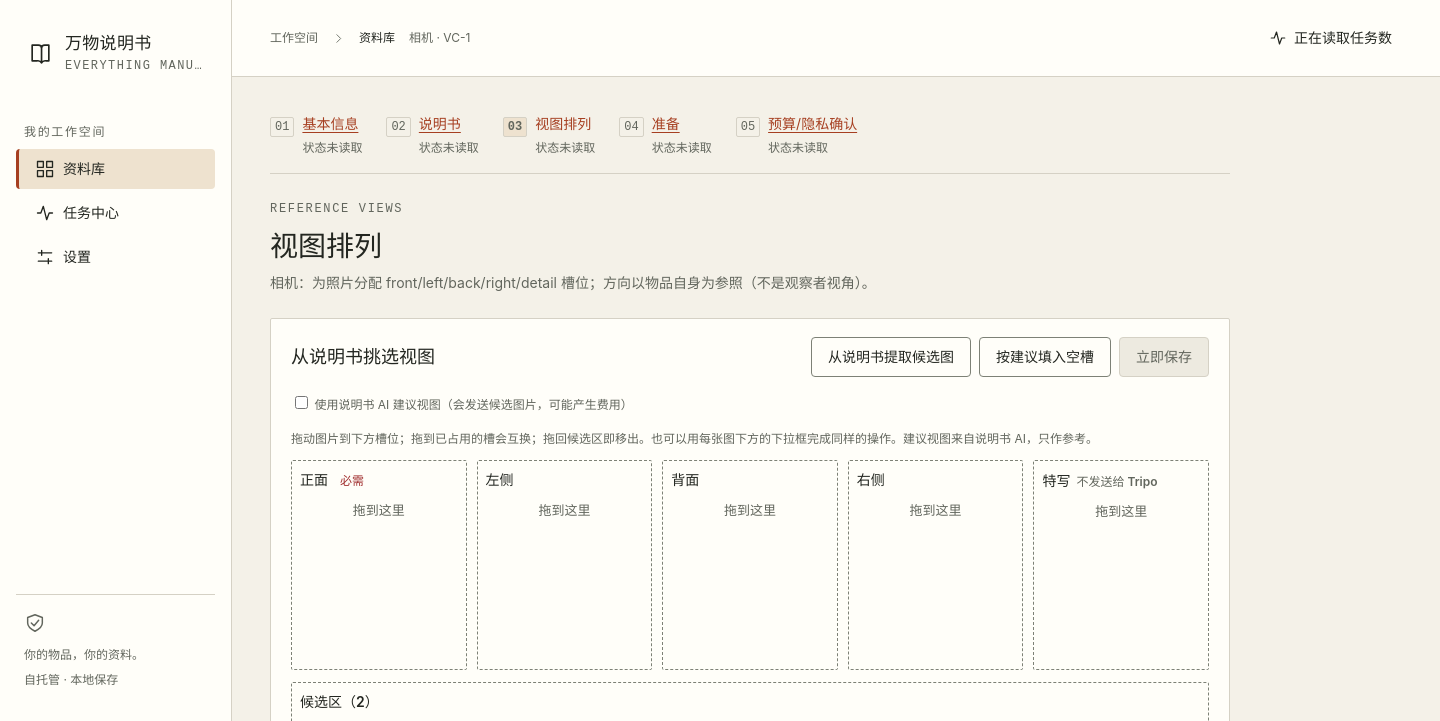
Test: 视图排列页的缺项提示 › 按建议填入空槽后也立即更新缺项提示
Click the button with test id "autofill": (1045, 357) [979,337,1111,377]
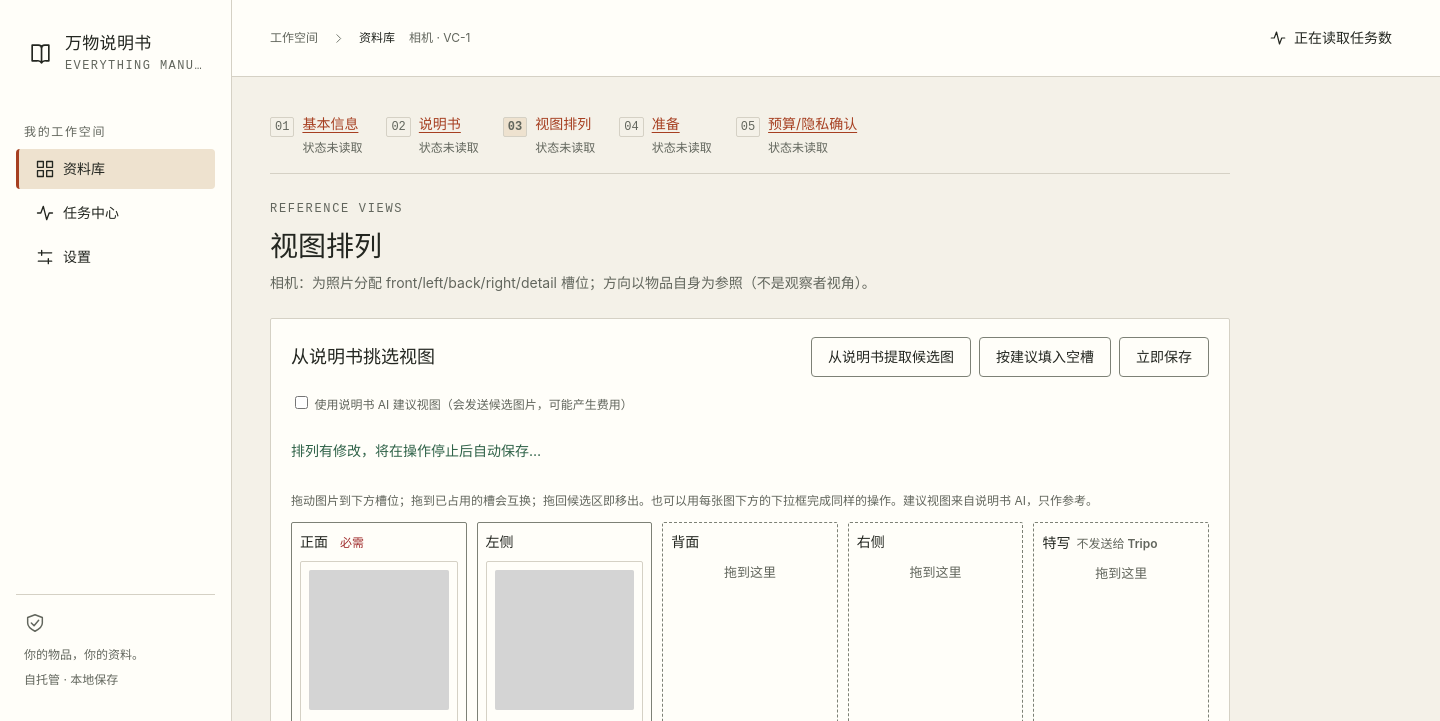
Expected: the message "排列有修改，将在操作停止后自动保存…" is shown, [291,442,541,459]
